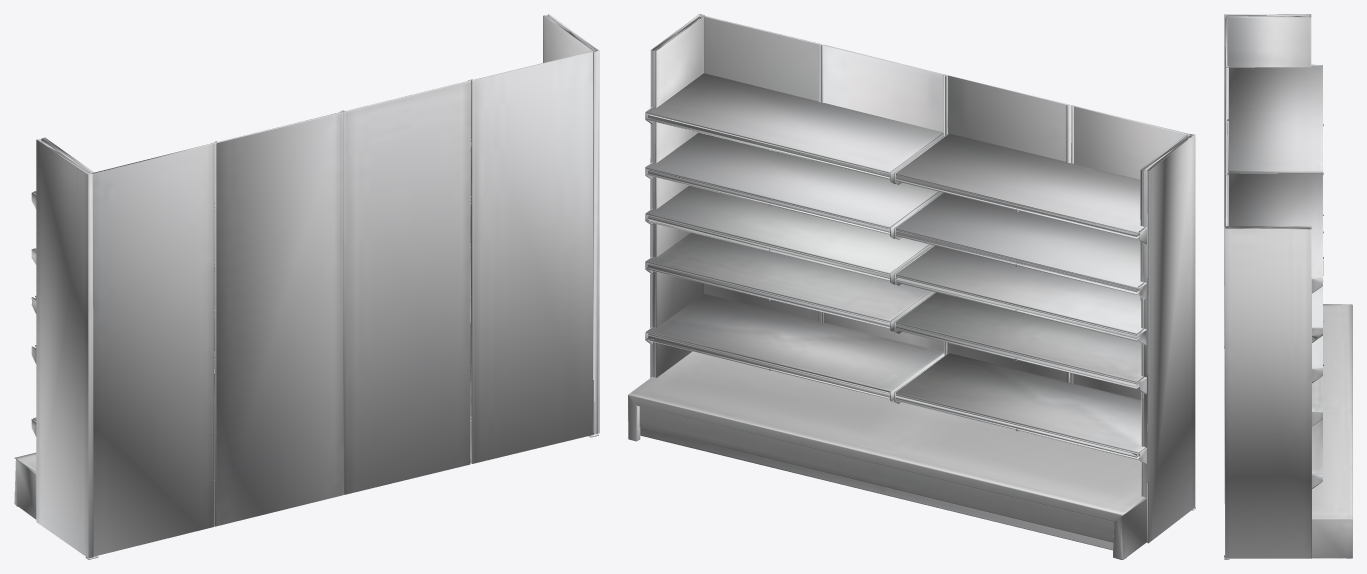
The model's file is mall-retail-gondola.glb.
3 views of the same model, side by side, from view 1: azimuth 30°, elevation 25°; view 2: azimuth 150°, elevation 25°; view 3: azimuth 270°, elevation 25° (orthographic). The views are drawn at different scales.
Visible parts, largest first — view 1: retail-gondola; view 2: retail-gondola; view 3: retail-gondola.
Part boxes in pixels (left/top/right/bottom): retail-gondola: left=14, top=14, right=599, bottom=559; retail-gondola: left=628, top=14, right=1195, bottom=559; retail-gondola: left=1224, top=14, right=1352, bottom=559.
Size of the model in its own units: 1.95 by 1.4 by 0.4926.
Materials: 1 (1 with a texture image).
